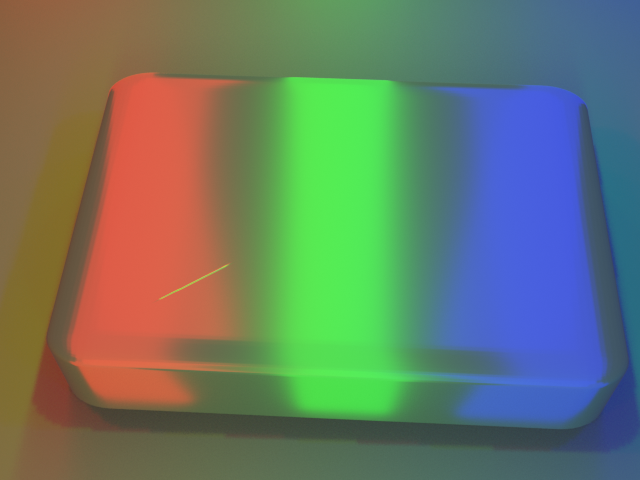scratch: (44, 213, 307, 372)
